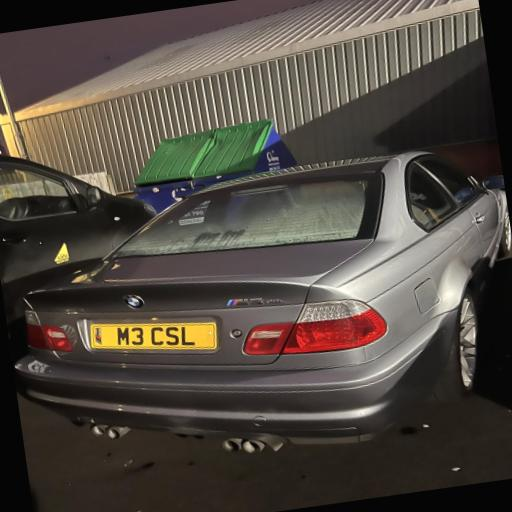numberplates: (90, 322, 217, 350)
